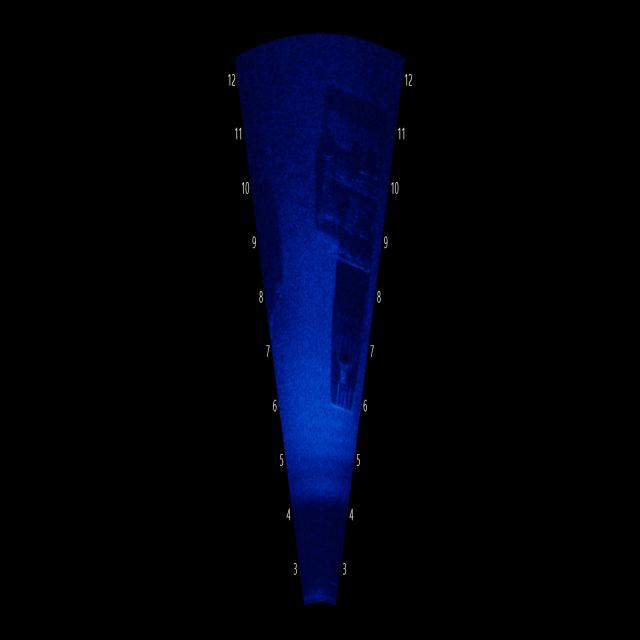square: (296, 76, 388, 267), (320, 273, 360, 451)
